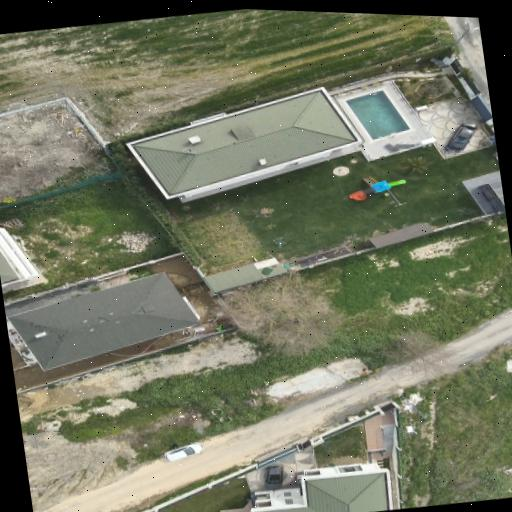car: (446, 123, 477, 152), (164, 443, 203, 461), (266, 466, 283, 484)
